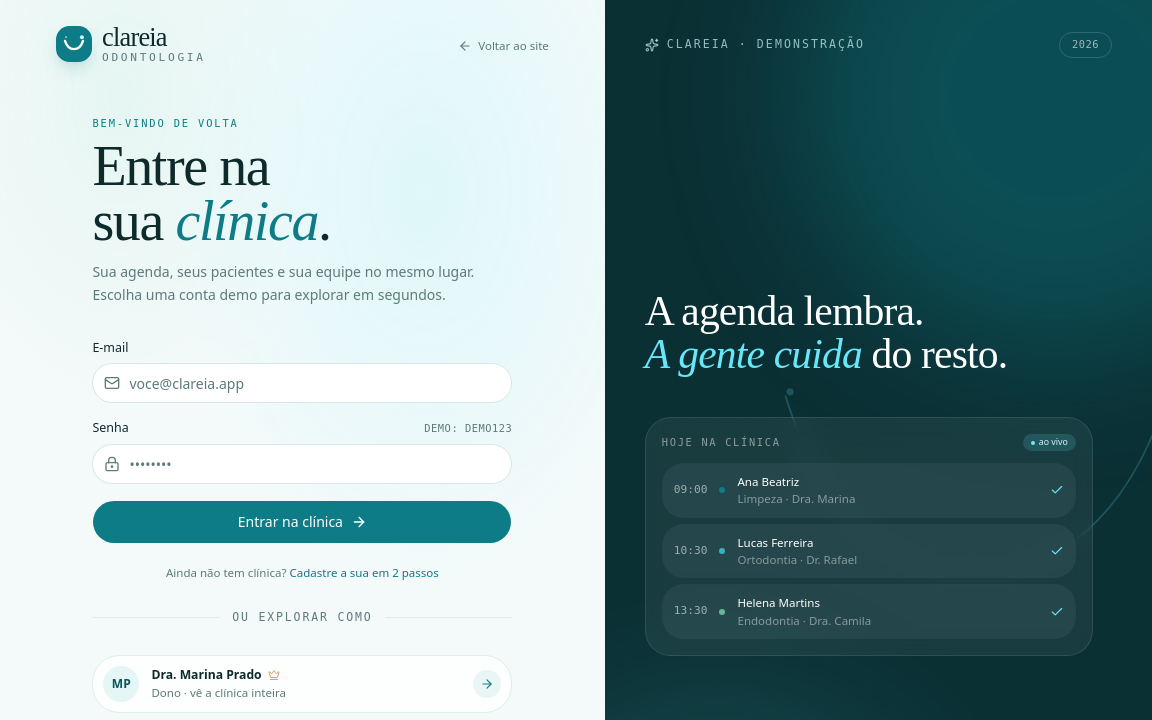
navegação principal › entra como dona e abre a lista de pacientes
The width and height of the screenshot is (1152, 720).
Click the button "MP Dra. Marina Prado Dono · vê a clínica inteira" at coordinates (121, 684), box [92,655,512,713]
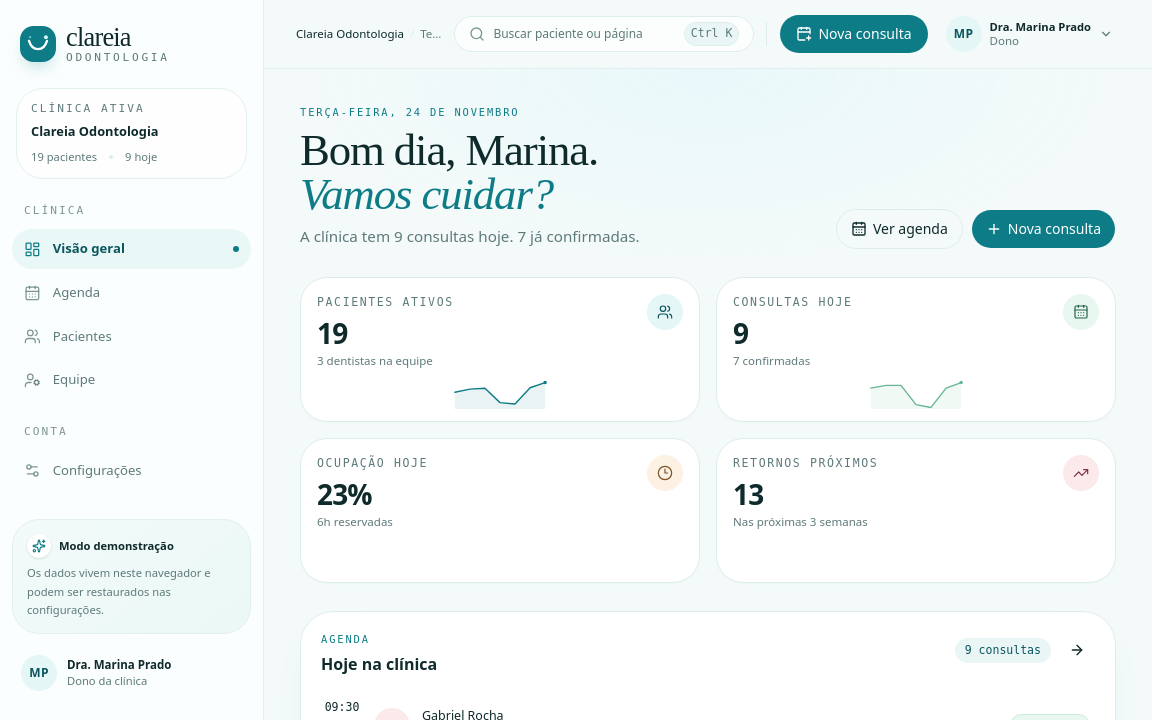
Result: the text "Vamos cuidar?" is shown at [300,168,553,218]
Click the link "Pacientes" at coordinates (68, 336), box [24,327,112,345]
(page scrolled)
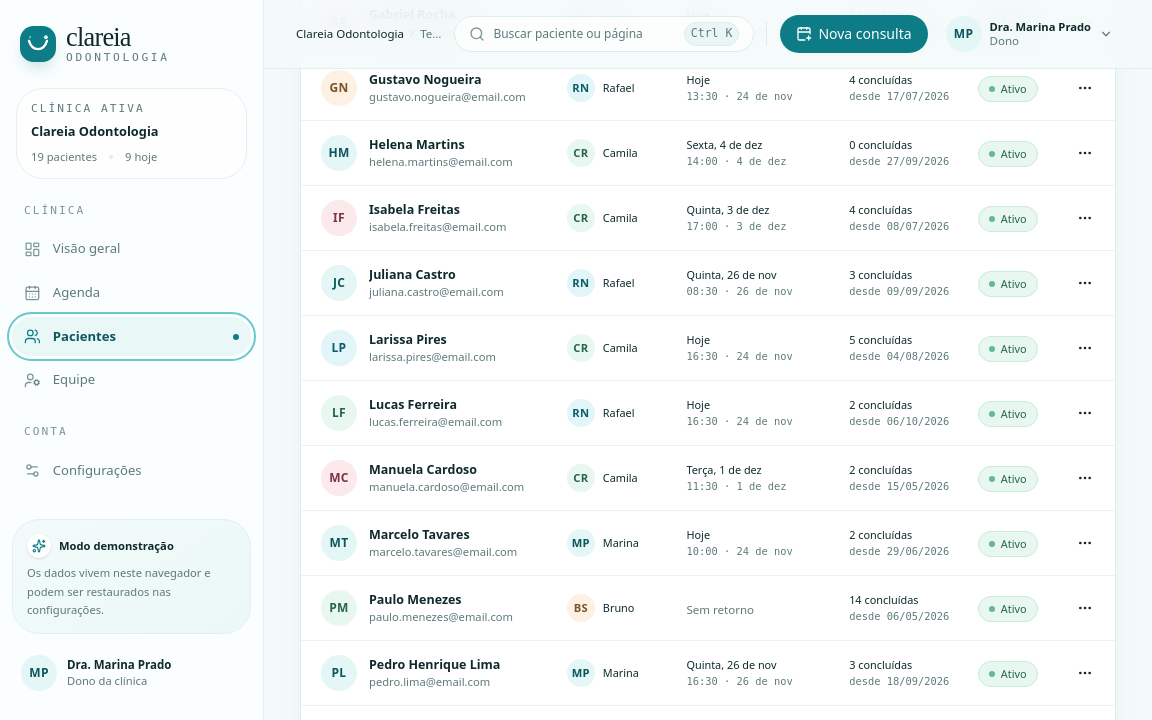
Result: the text "Lucas Ferreira" is shown at [369,396,457,413]
